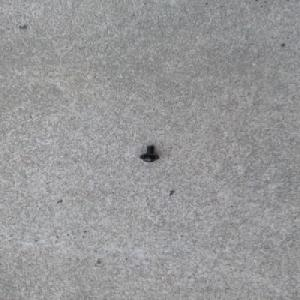BoltWasher: (139, 144, 160, 163)
